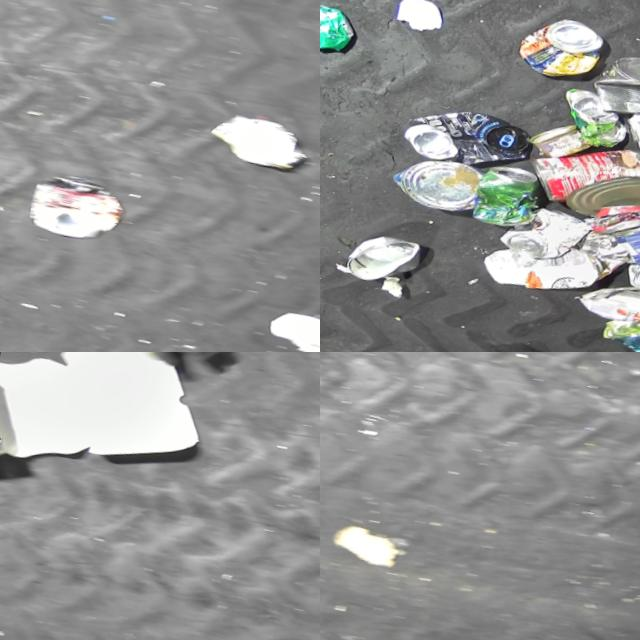can: (396, 97, 533, 188), (520, 131, 640, 233), (19, 169, 127, 255), (510, 12, 607, 94), (492, 200, 593, 276), (383, 149, 482, 225), (560, 162, 640, 246), (466, 161, 545, 238), (335, 226, 421, 296), (551, 89, 634, 160), (584, 49, 640, 142), (597, 202, 640, 312), (571, 278, 640, 342), (523, 119, 594, 173), (320, 0, 358, 63), (617, 98, 640, 178), (619, 265, 640, 309)
